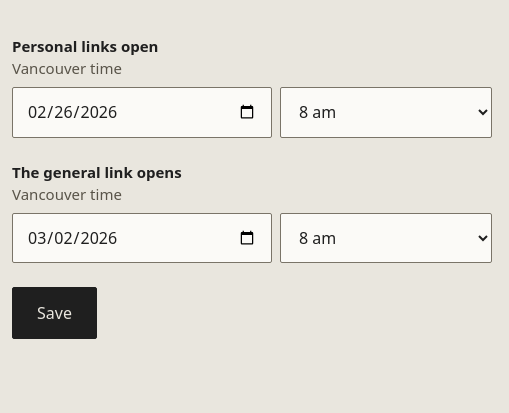
Test case: OpeningForm (A7b) › shows the saved Vancouver dates and hours; an unchanged Save sends nothing
Expected: the date field named "Personal links open date" holds "2026-02-26", [12,87,272,138]
Expected: the dropdown named "The general link opens time" shows "8 am", [280,213,492,263]
Click the button "Save" at (54,313), box [12,287,97,339]
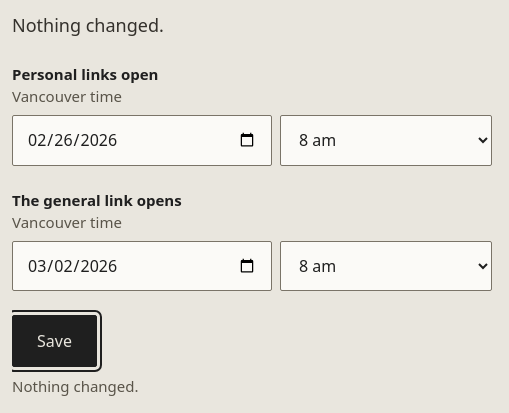
Expected: the text with id "live" reads "Nothing changed.", [12,13,164,37]
